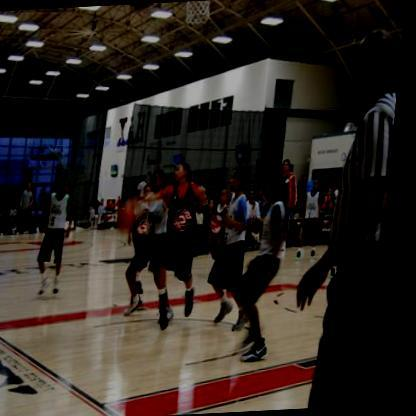basketball: (123, 201, 144, 232)
